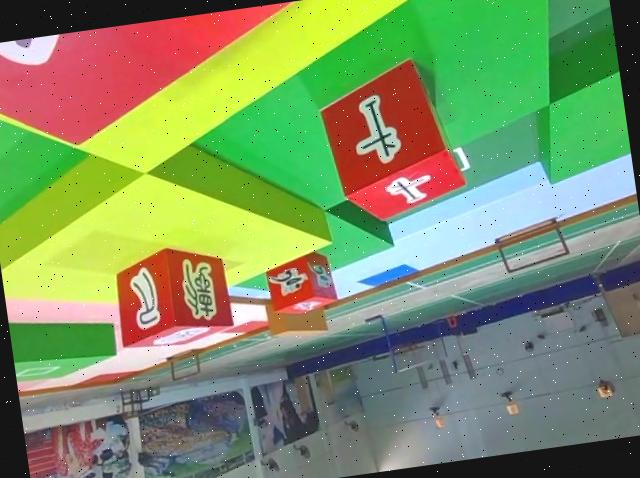R1: (263, 249, 337, 319)
R2 Fake: (111, 238, 238, 353)
R2 Real: (315, 52, 471, 226)
